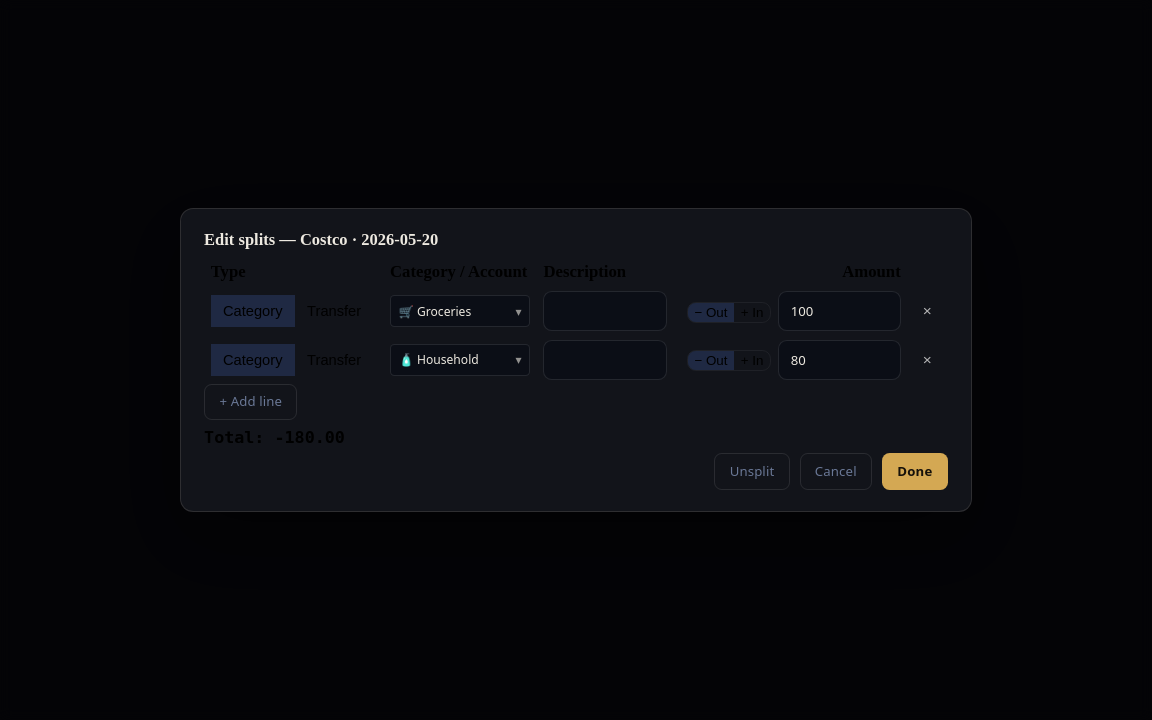
Test case: SplitsEditor editing › editing a line amount updates the Total and shows the "updates amount" note
In the 1st number field named "line amount": (839, 311) [778,291,901,331], type "0"
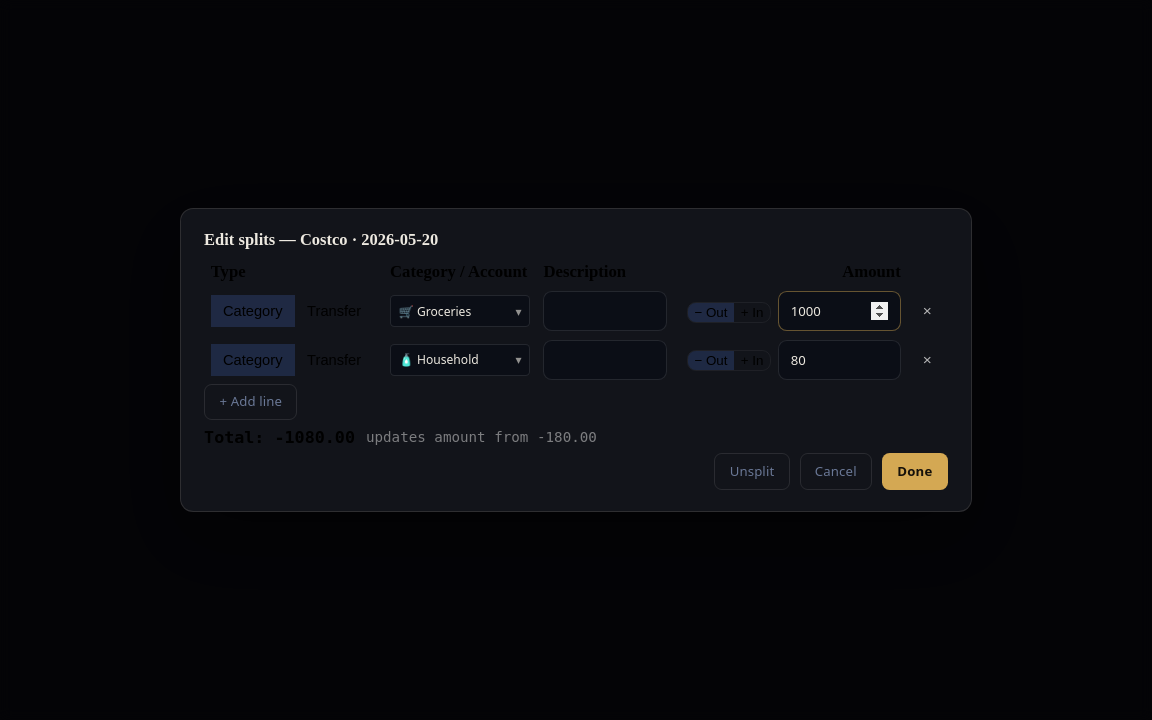
Now the text "Total: -1080.00" is shown, box [204,427,355,447]
Now the text "updates amount from -180.00" is shown, box [366,429,597,445]
